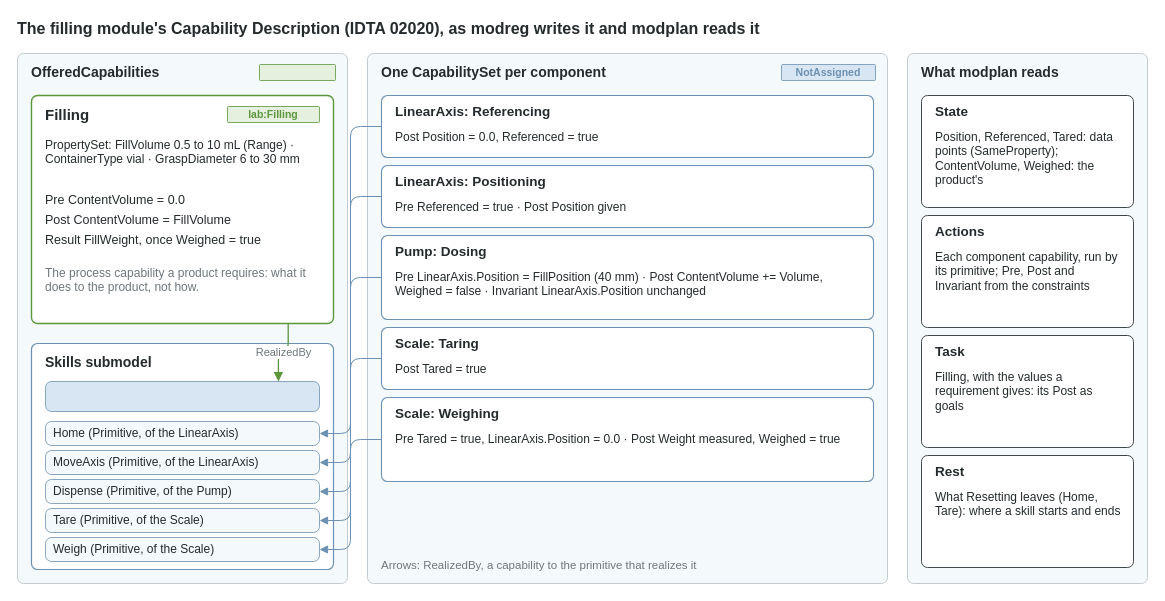
Image size: 1165x601. Some labels were removed from this diagram. Each missing label, with the box of its shape:
Dispensing (Composite): MoveAxis, Dispense, Home, Weigh: (45, 381, 319, 411)
Offered: (259, 64, 335, 80)
